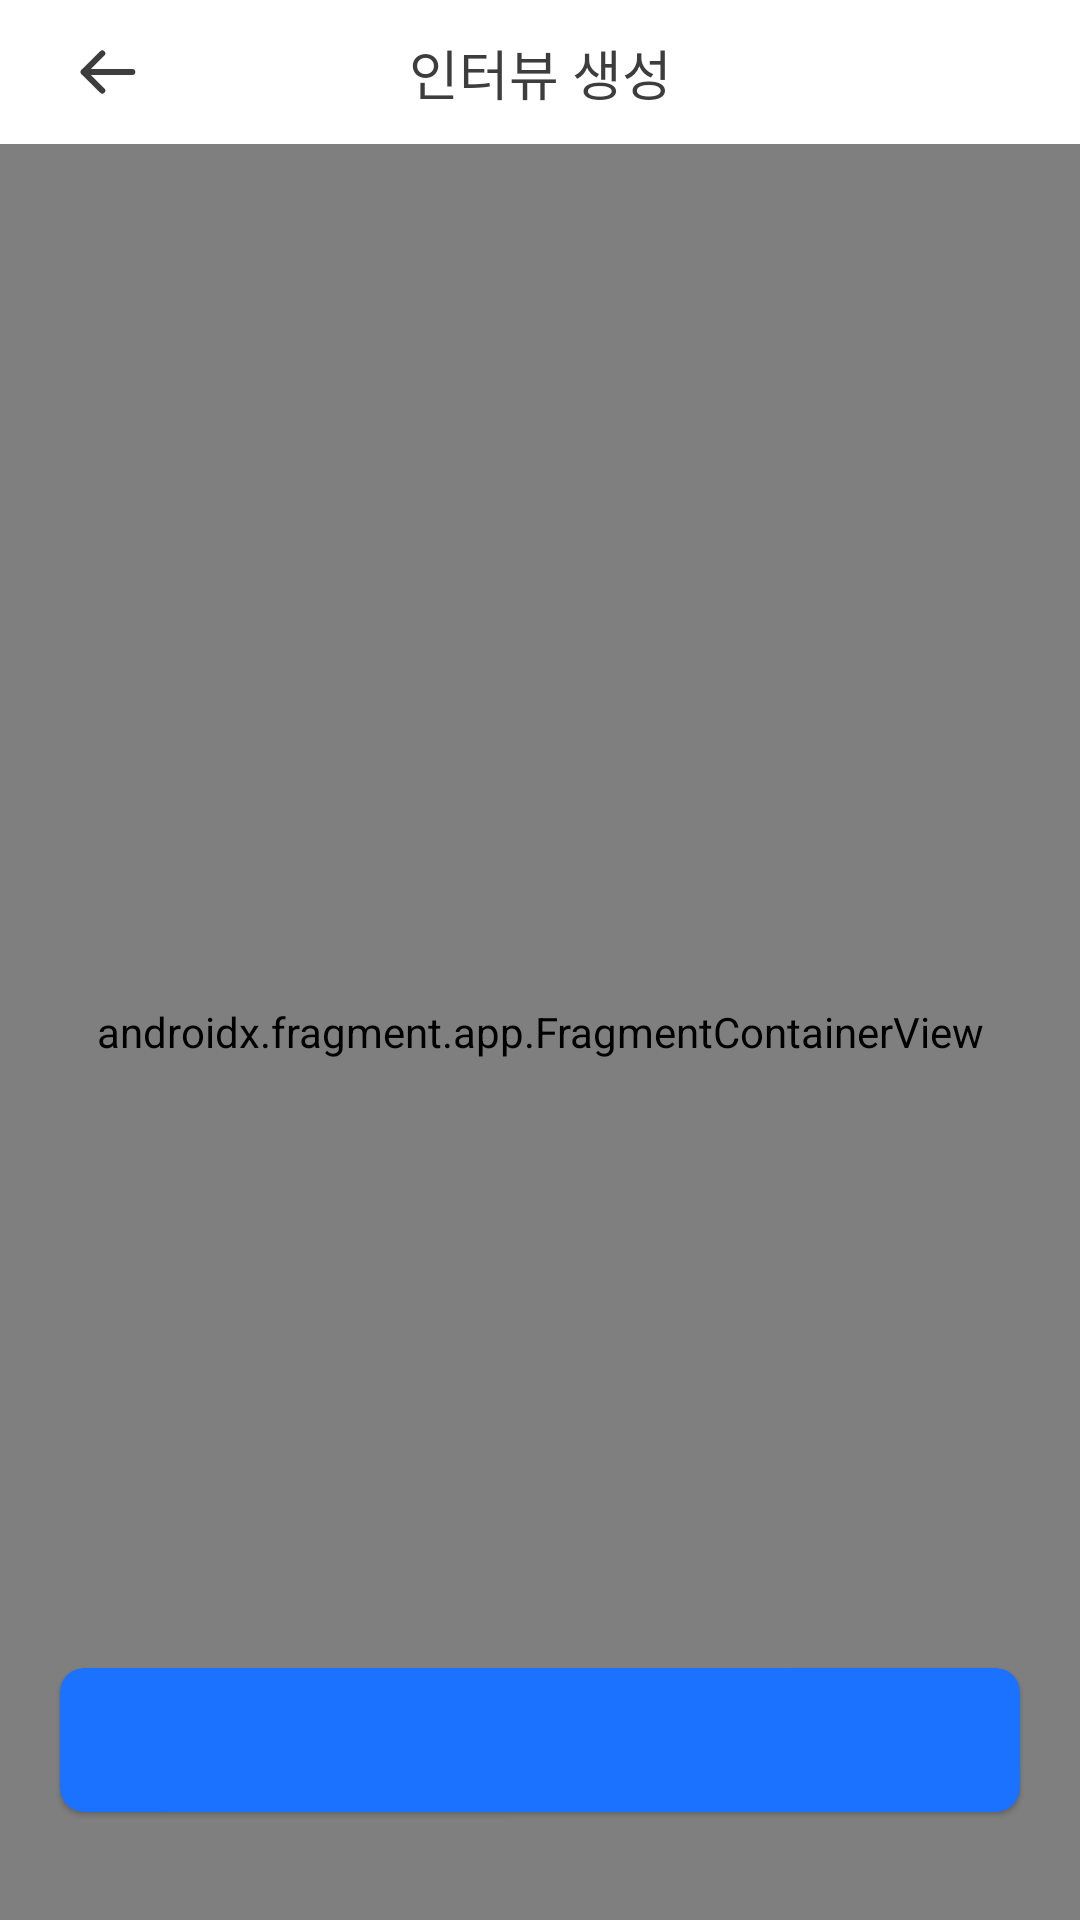

Icons on this 1080×1920 Android screen, each with the point to tap as (x,y):
back: (108,72)
